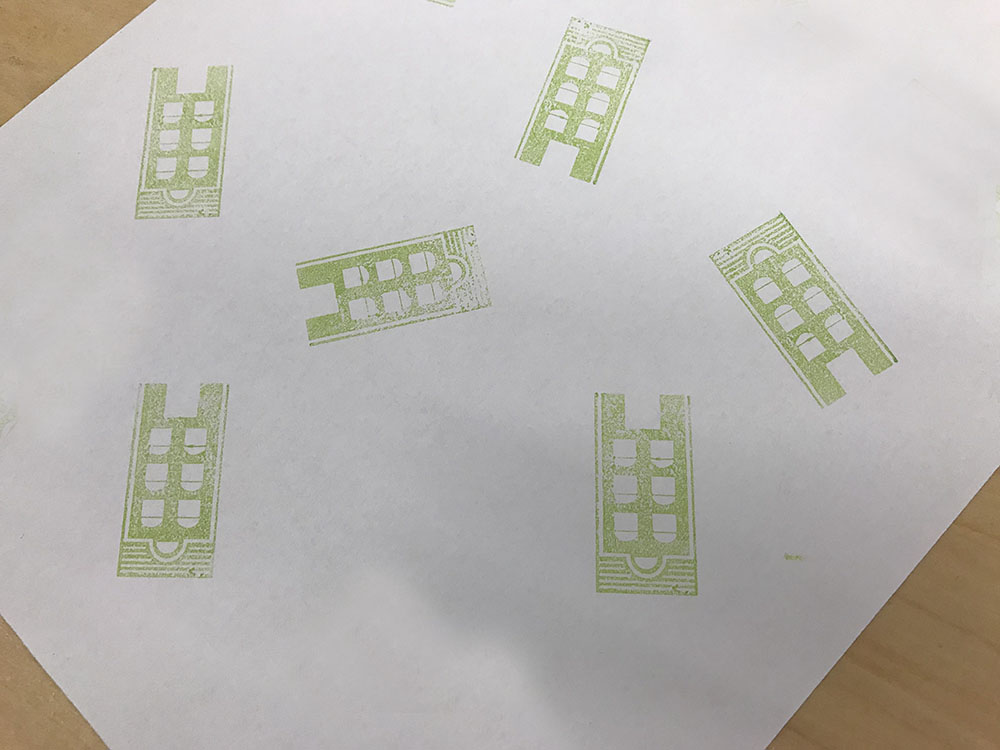build: (699, 196, 915, 414), (101, 358, 274, 601), (291, 207, 502, 362), (573, 387, 716, 612), (502, 2, 666, 198), (123, 47, 255, 244)
